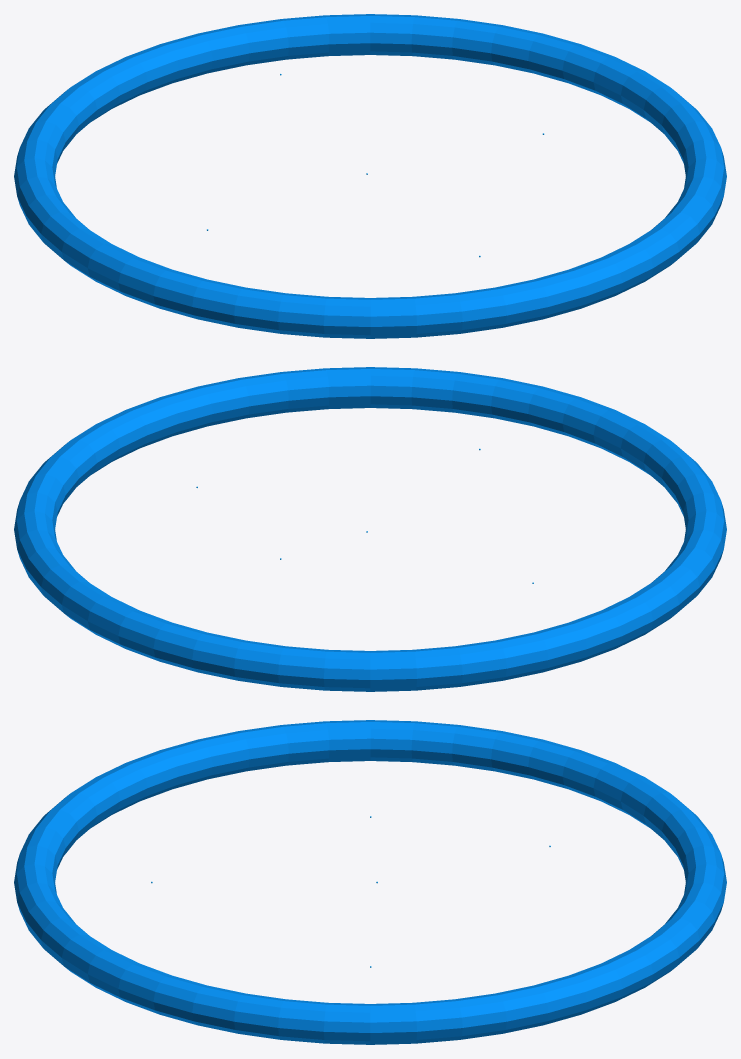
Rendered from surround_cyl_turquoise2.gltf.
The picture shows the model from 3 angles, top to bottom: view 1: azimuth 30°, elevation 25°; view 2: azimuth 150°, elevation 25°; view 3: azimuth 270°, elevation 25°; orthographic projection.
Visible parts, largest first — view 1: Torus.001; view 2: Torus.001; view 3: Torus.001.
Boxes of the visible parts, box(x1,y1,x2,y2) form: Torus.001: box(14, 14, 726, 338); Torus.001: box(14, 367, 726, 691); Torus.001: box(14, 720, 726, 1044).
Size of the model in its own units: 212 by 18.24 by 212.
